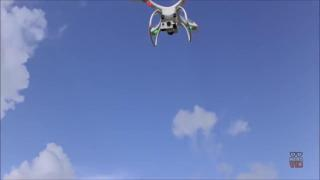UAV: (141, 0, 198, 47)
